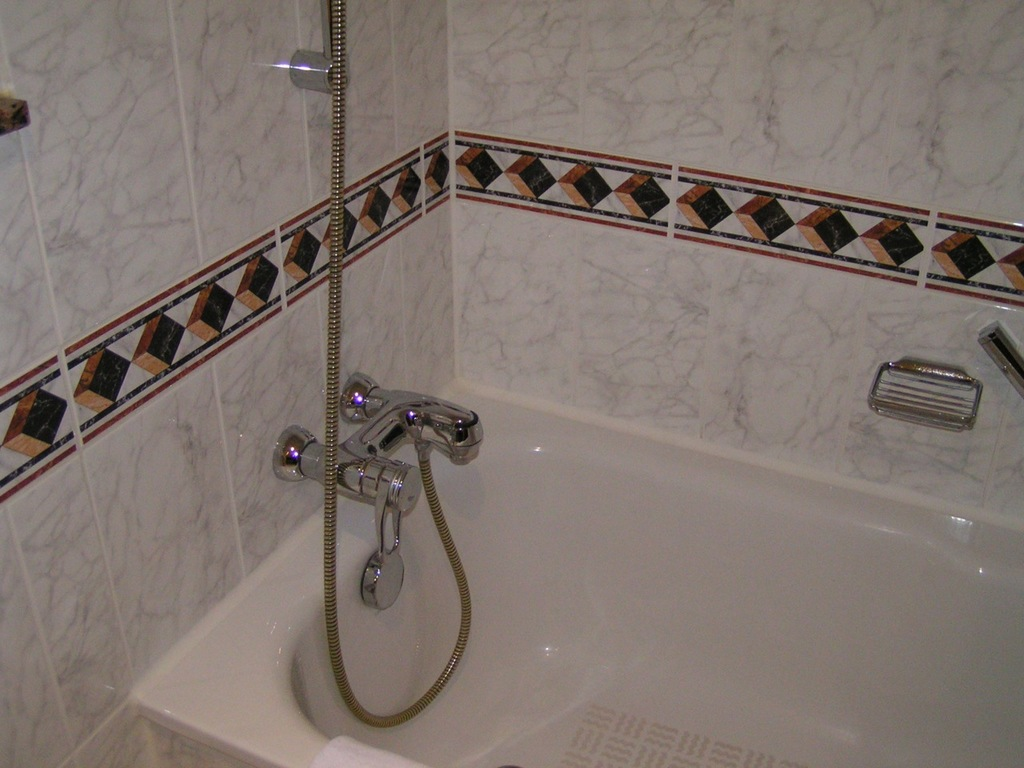tap: (342, 410, 488, 463)
